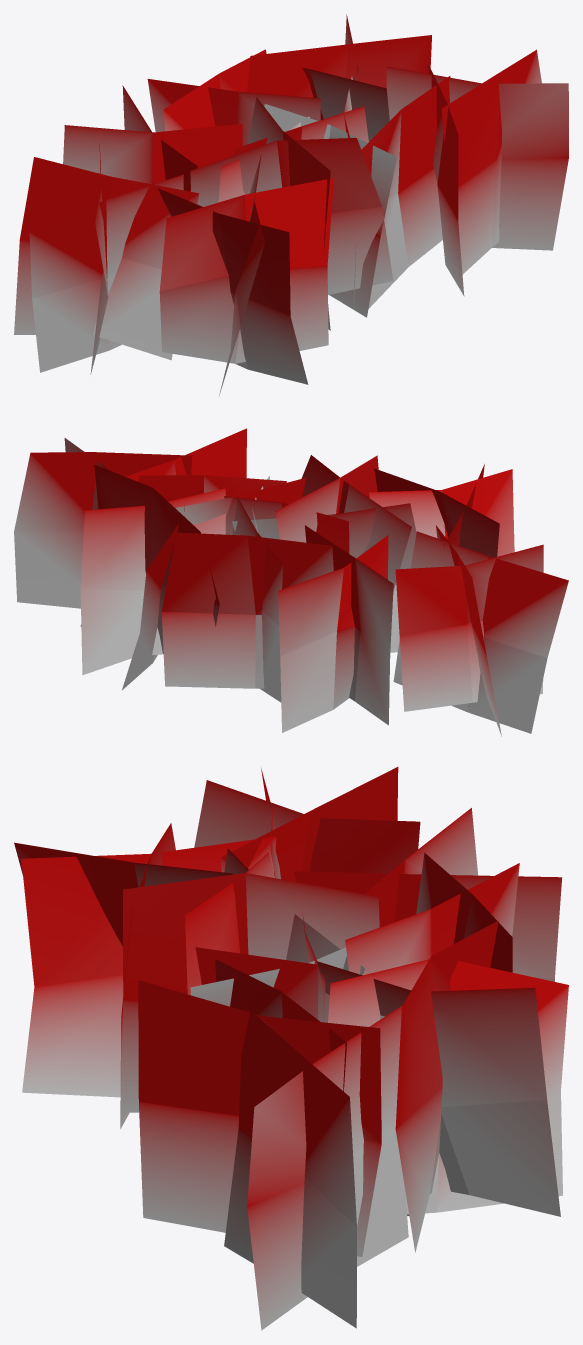
File: SM_GrassGroup01.fbx
3 renders of one model, top to bottom at view 1: azimuth 30°, elevation 25°; view 2: azimuth 150°, elevation 25°; view 3: azimuth 270°, elevation 25°, orthographic. The views are drawn at different scales.
Parts seen in each view (by area): view 1: Plane; view 2: Plane; view 3: Plane.
Boxes of the visible parts, box(x1,y1,x2,y2) form: Plane: box(14, 14, 568, 396); Plane: box(14, 428, 568, 736); Plane: box(14, 767, 568, 1330).
Bounding box in the file's own units: 725 × 260 × 448.
